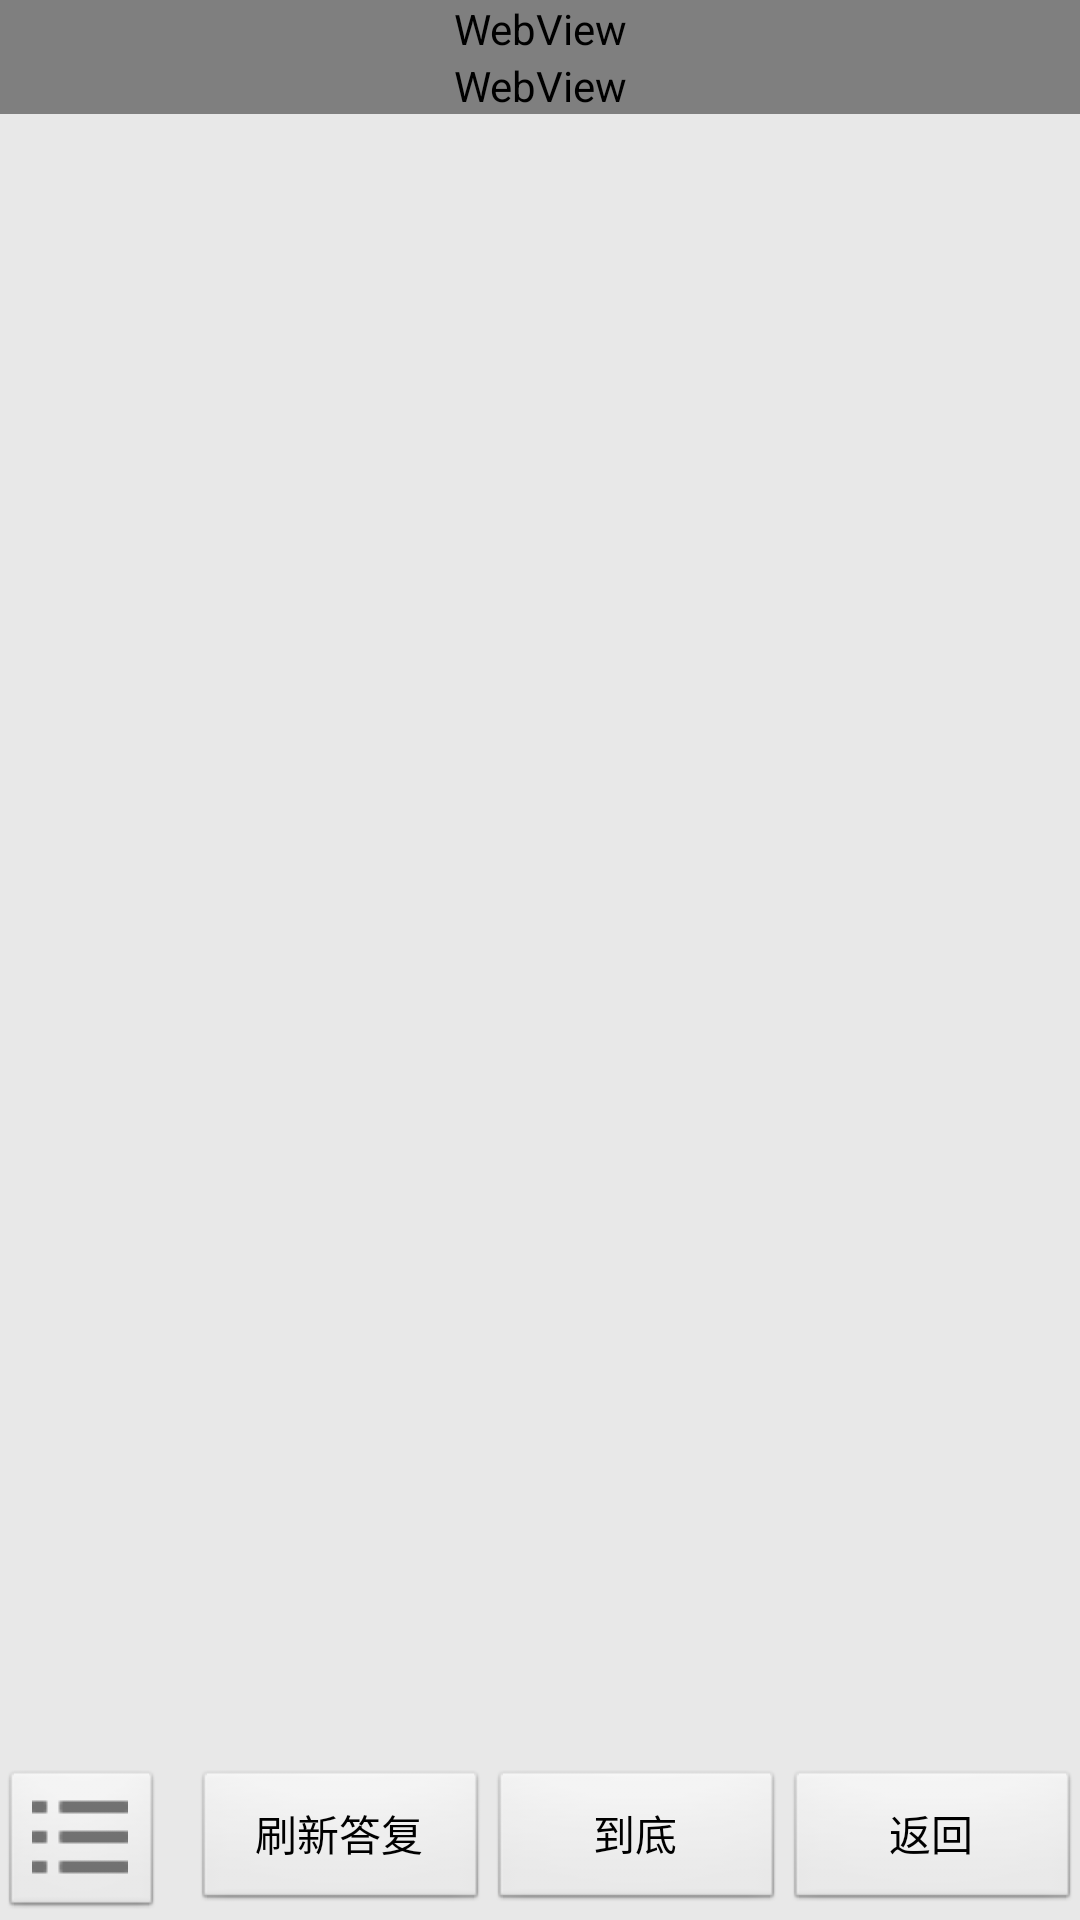

Screen size 1080 × 1920. Icon name, then its center in pixels as [x,y]:
menu: [81,1841]
